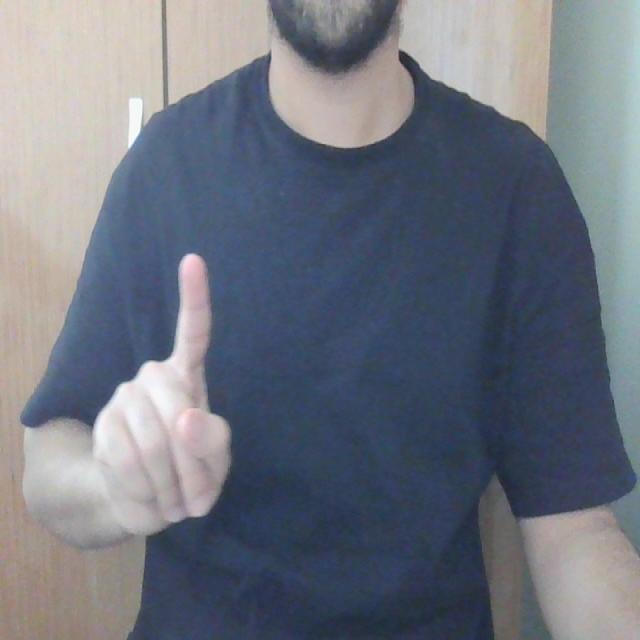Hayir: (82, 218, 238, 582)
